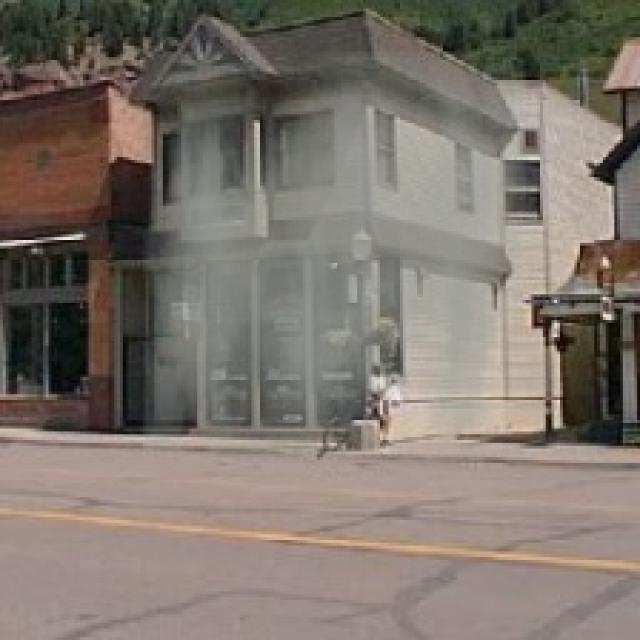Smoke: (143, 51, 526, 463)
